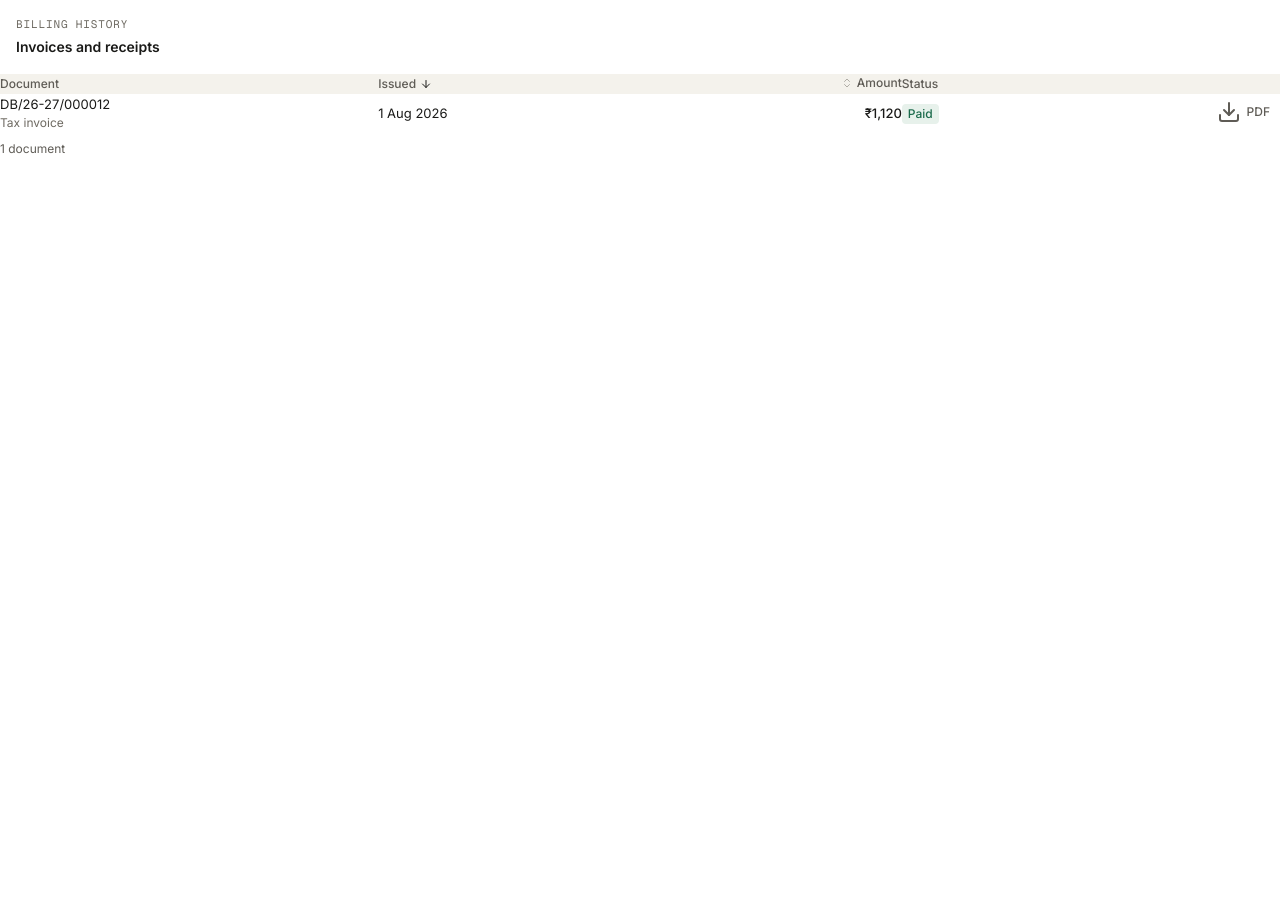
the GST breakdown › itemises an intra-state supply as CGST and SGST at half the rate each
The width and height of the screenshot is (1280, 900).
Step 1. Click the button "DB/26-27/000012 Tax invoice" → (55, 113), box x1=0 y1=94 x2=110 y2=132
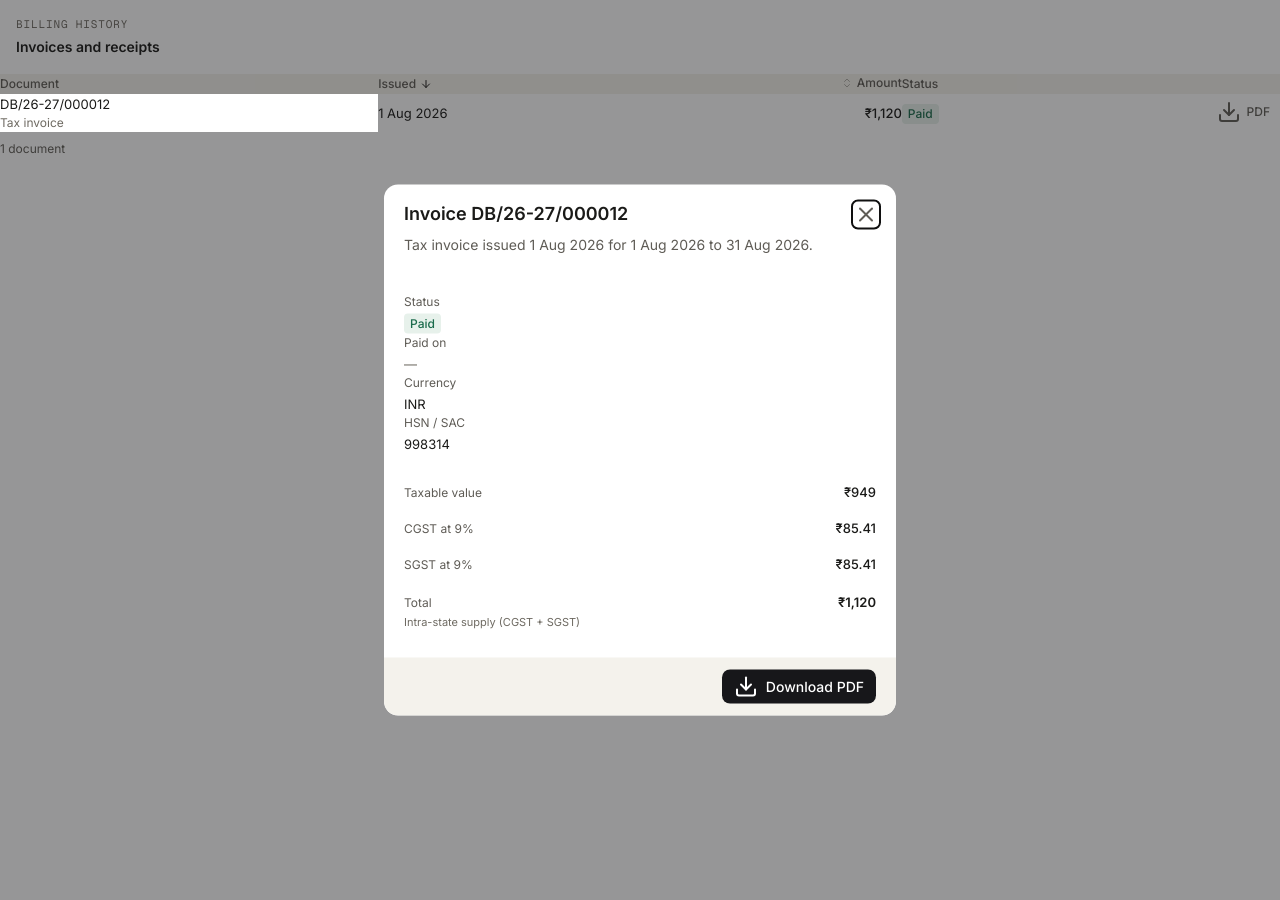
Now the text "Taxable value" is shown, box x1=404 y1=484 x2=482 y2=502
Now the text "CGST at 9%" is shown, box x1=404 y1=520 x2=474 y2=538
Now the text "SGST at 9%" is shown, box x1=404 y1=556 x2=473 y2=574
